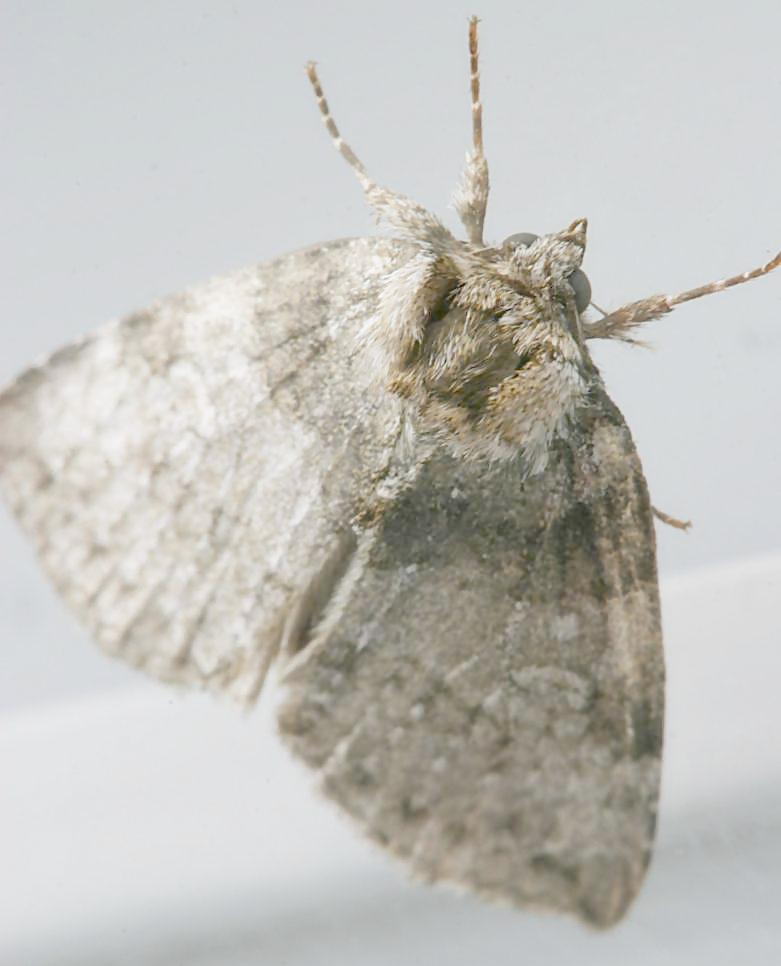feie: (13, 170, 709, 900)
